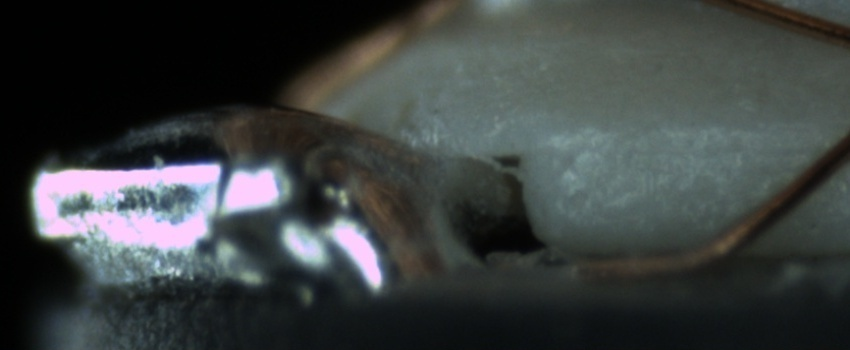DL: (611, 106, 847, 182)
